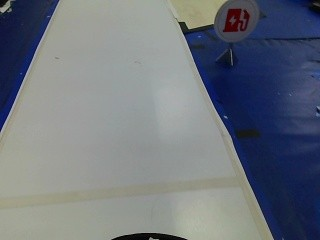battery: (212, 1, 259, 43)
